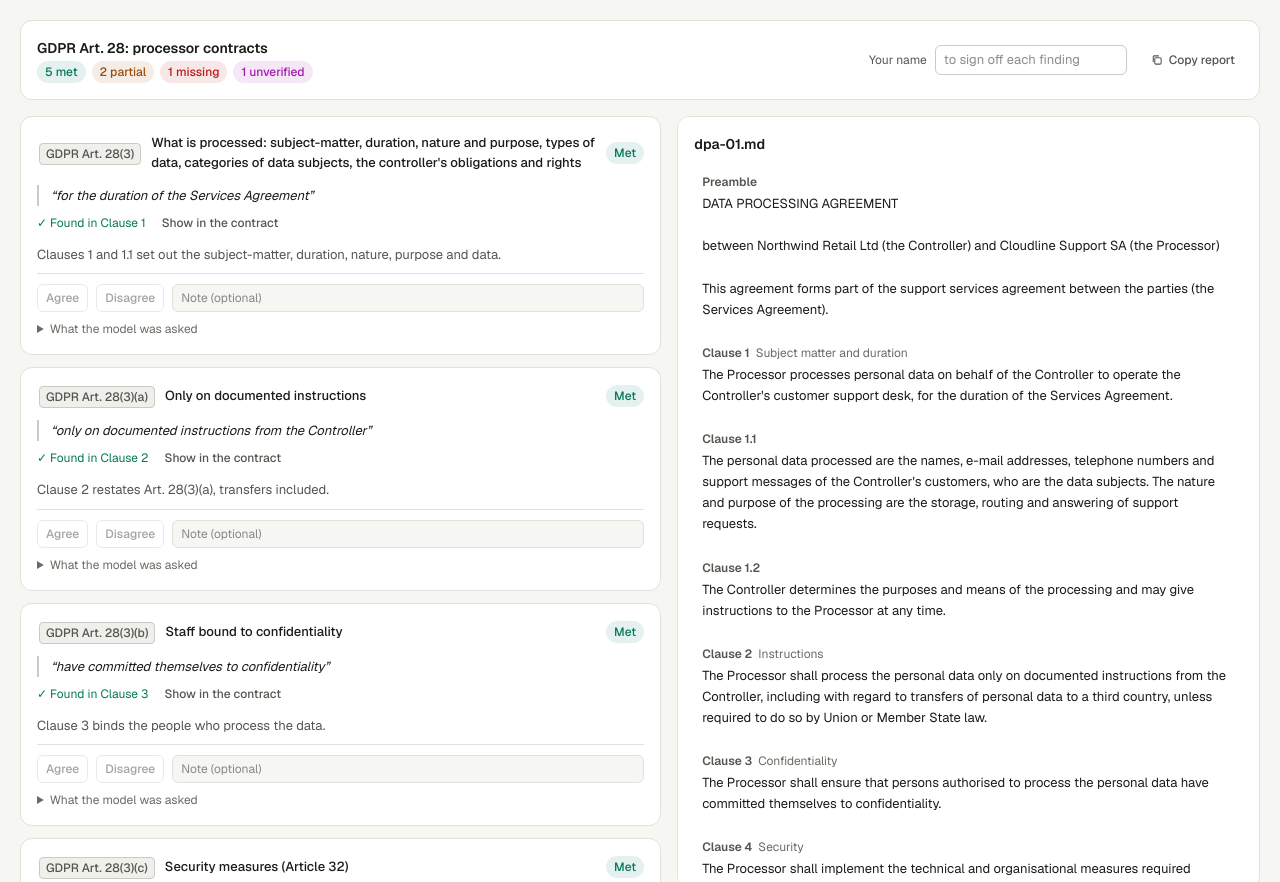
the review page › copies the review as a report, decisions and caveat included
The image size is (1280, 882).
Click the button "Copy report".
click(1193, 60)  # box x1=1143 y1=47 x2=1243 y2=73
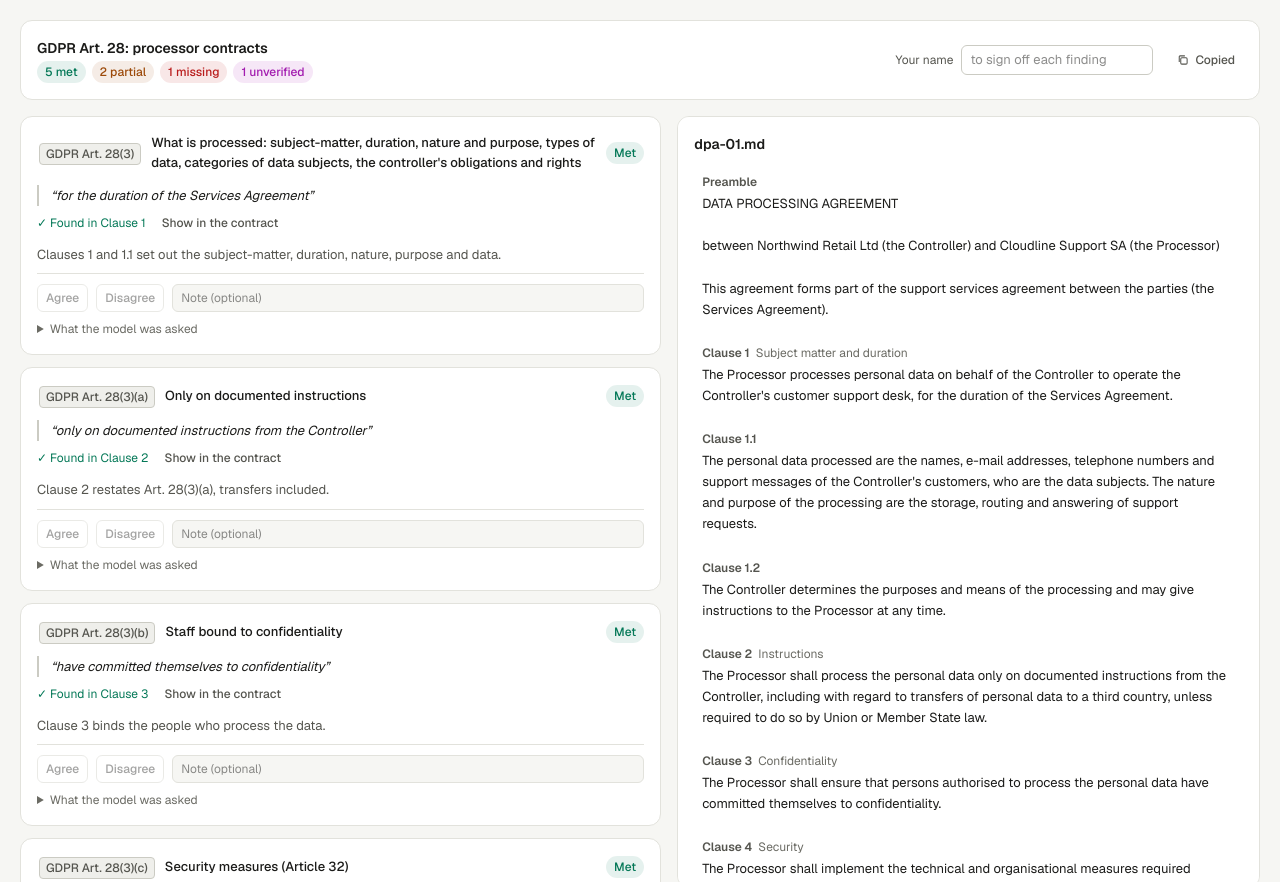
expect the button "Copied" is shown: met, box x1=1169 y1=47 x2=1243 y2=73
